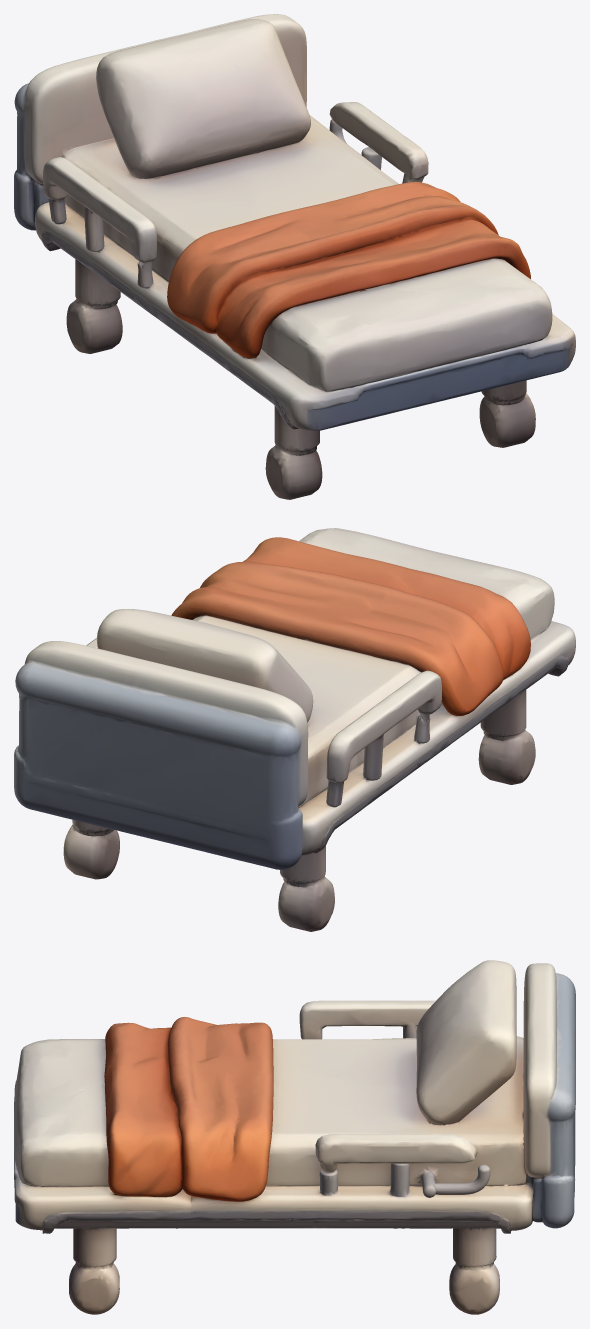
The model's file is bed.glb.
3 renders of one model, top to bottom at view 1: azimuth 30°, elevation 25°; view 2: azimuth 150°, elevation 25°; view 3: azimuth 270°, elevation 25°, orthographic. The views are drawn at different scales.
Parts seen in each view (by area): view 1: tripo_node_e90e2635-b91c-43bd-8330-c4ff8d4b7f3c; view 2: tripo_node_e90e2635-b91c-43bd-8330-c4ff8d4b7f3c; view 3: tripo_node_e90e2635-b91c-43bd-8330-c4ff8d4b7f3c.
Part boxes in pixels (box(x1,y1,x2,y2)): tripo_node_e90e2635-b91c-43bd-8330-c4ff8d4b7f3c: box(14, 14, 575, 499); tripo_node_e90e2635-b91c-43bd-8330-c4ff8d4b7f3c: box(14, 528, 575, 931); tripo_node_e90e2635-b91c-43bd-8330-c4ff8d4b7f3c: box(14, 960, 575, 1314).
Bounding box in the file's own units: 0.5962 × 0.5225 × 0.9998.
Materials: 1 (1 with a texture image).
